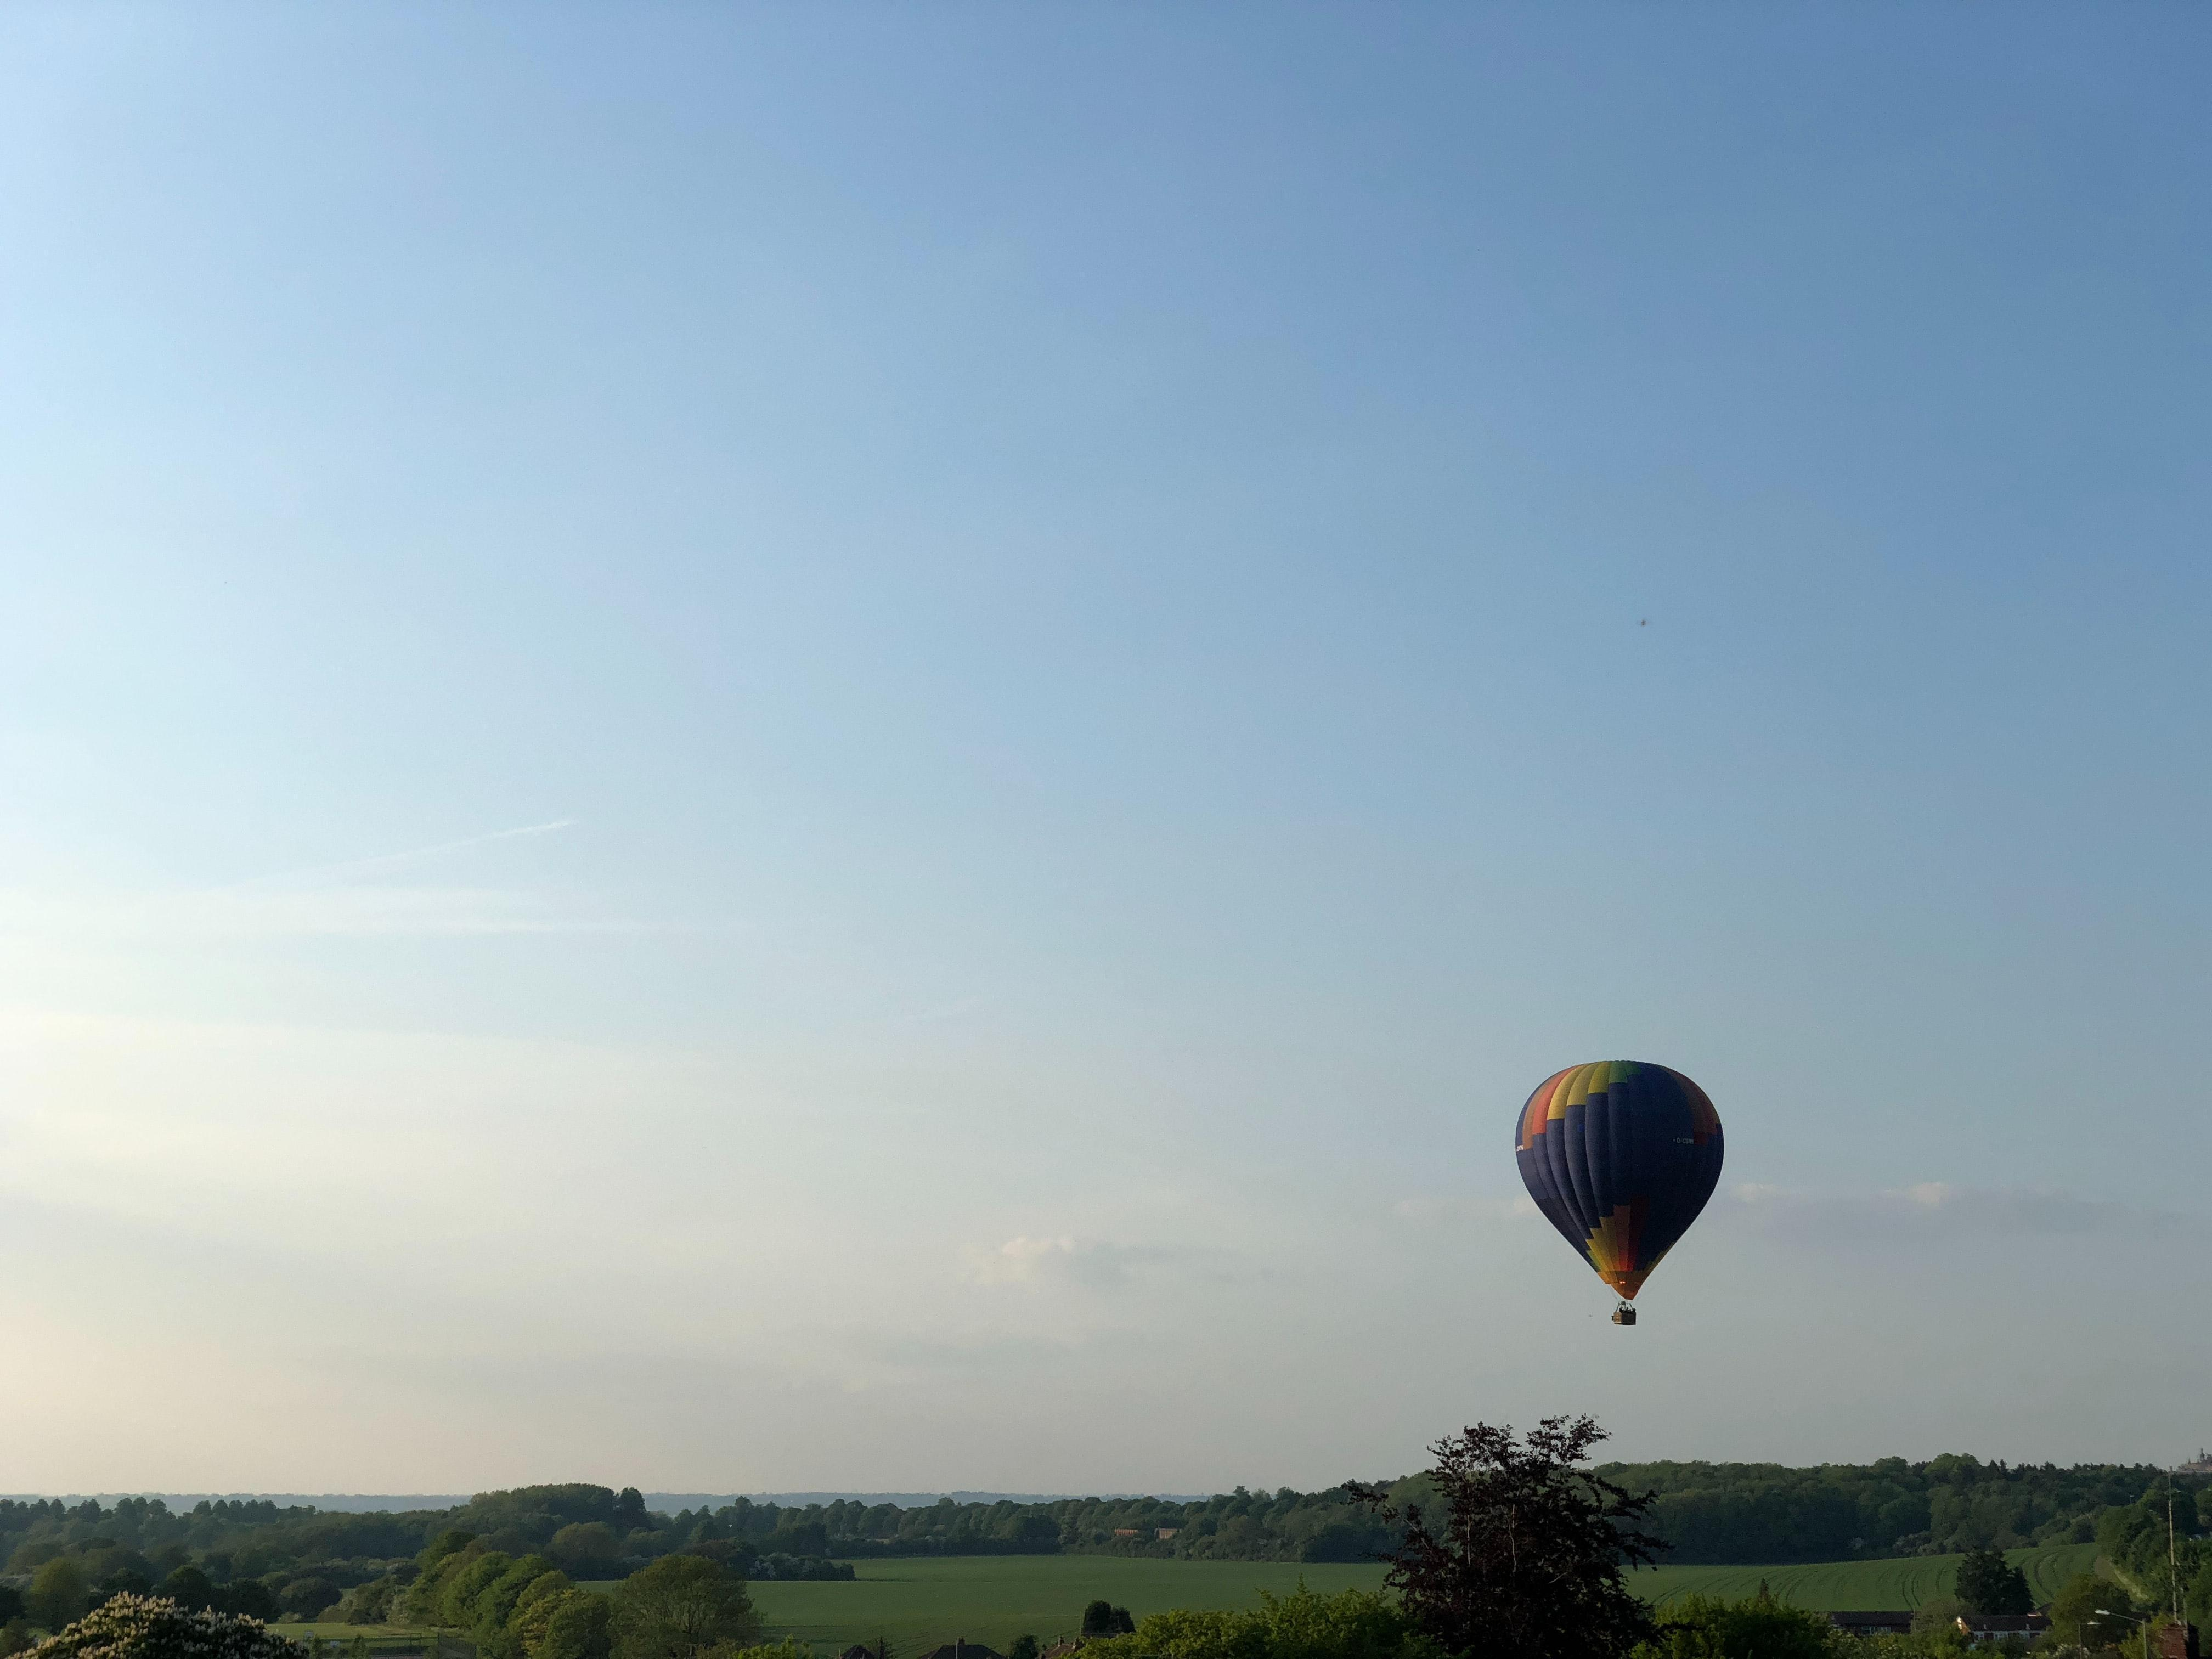hot air ballon: (1514, 1061, 1724, 1326)
